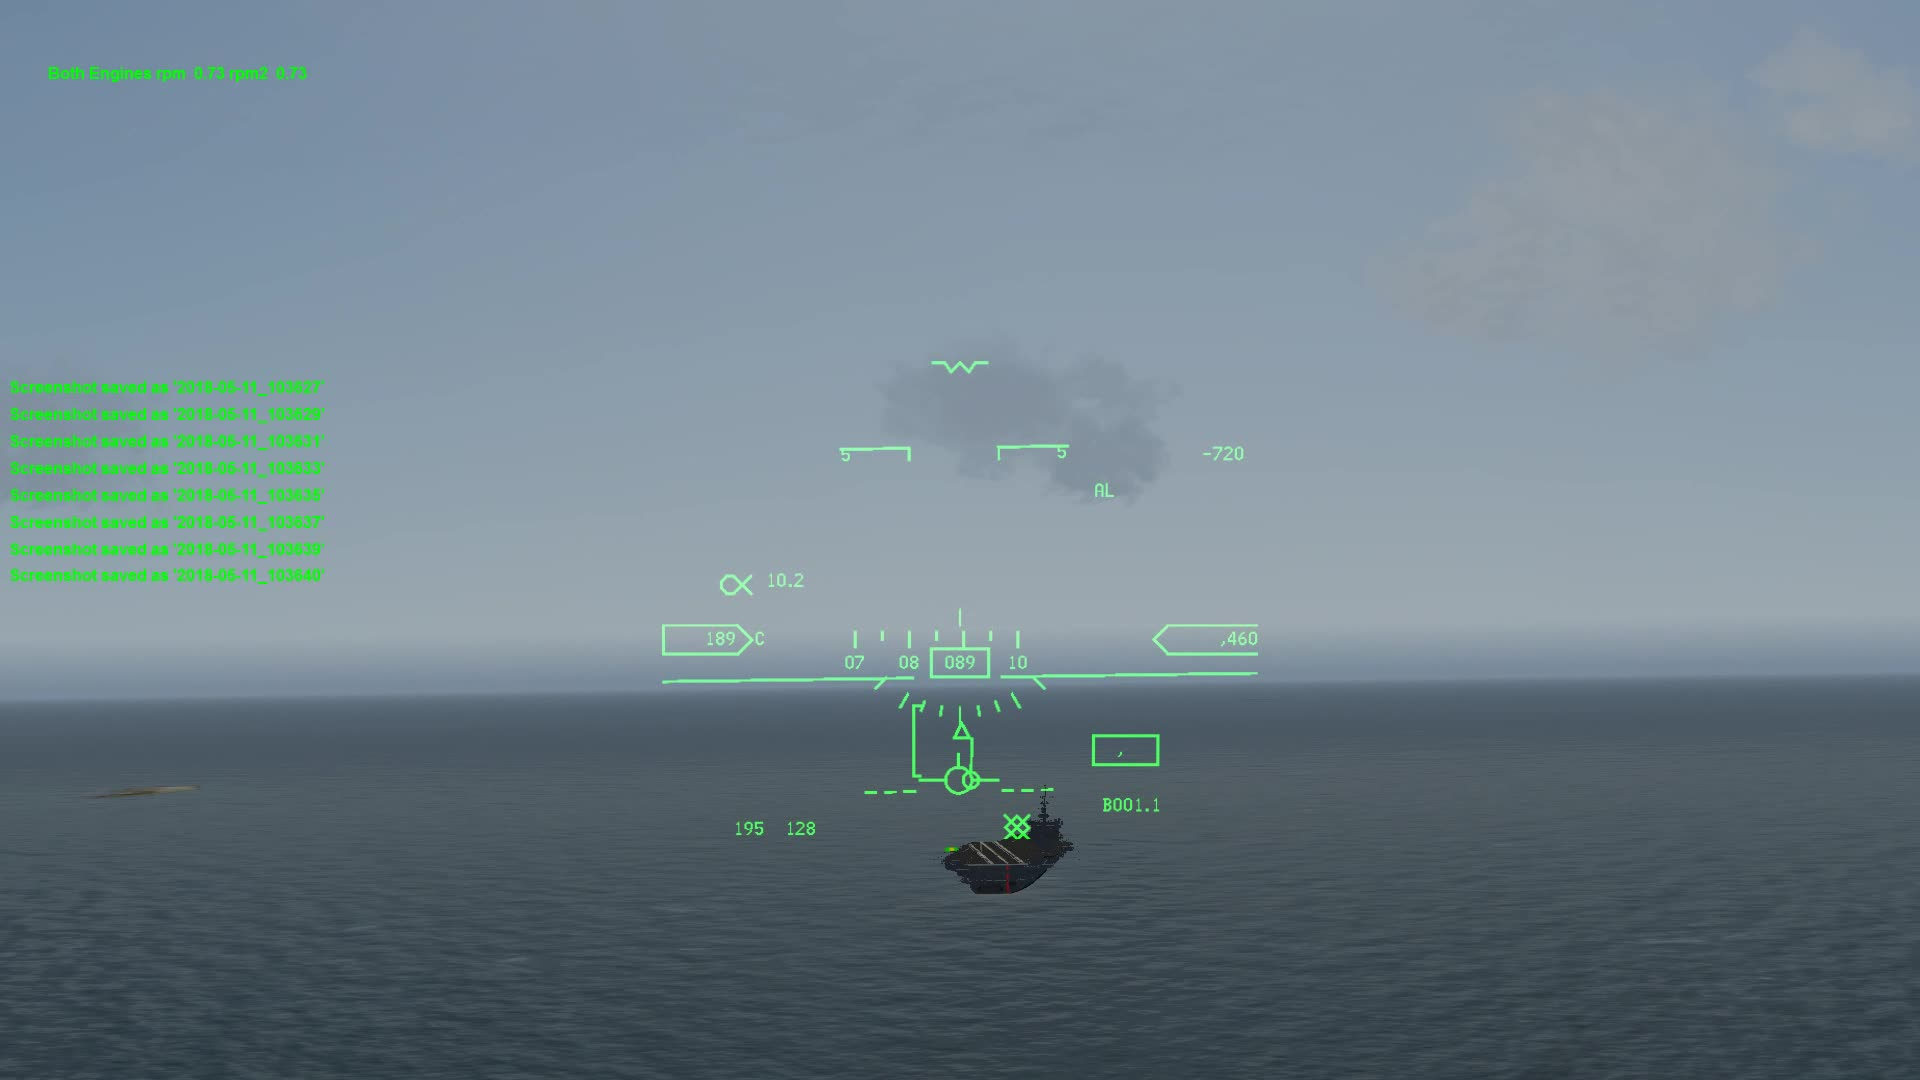speed vector: (922, 748, 1002, 799)
